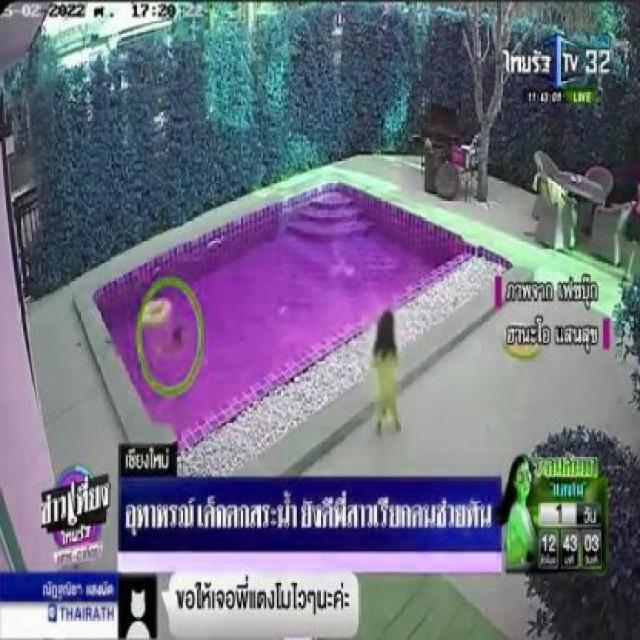drowning: (152, 324, 191, 365)
